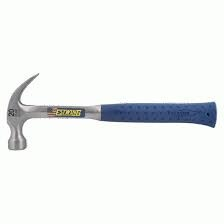hammer: (5, 72, 218, 153)
